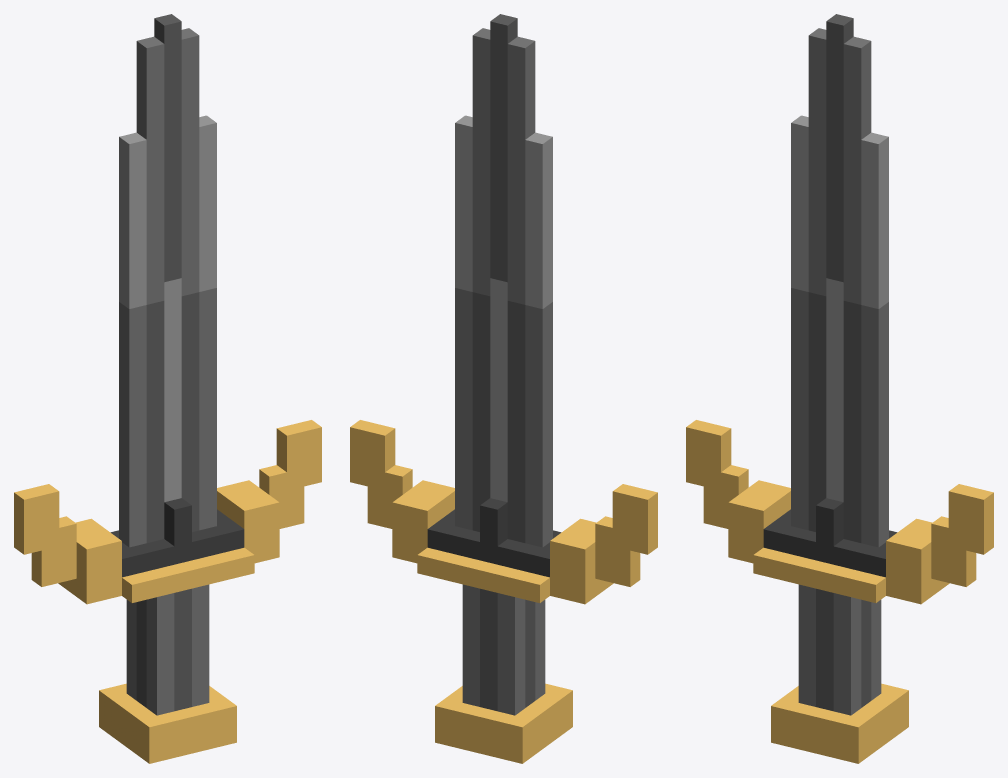
Rendered from SteelSword.obj.
3 renders of one model, left to right at view 1: azimuth 30°, elevation 25°; view 2: azimuth 150°, elevation 25°; view 3: azimuth 330°, elevation 25°, orthographic.
Size of the model in its own units: 1.7 by 3.9 by 0.5.
Materials: 1 (1 with a texture image).
